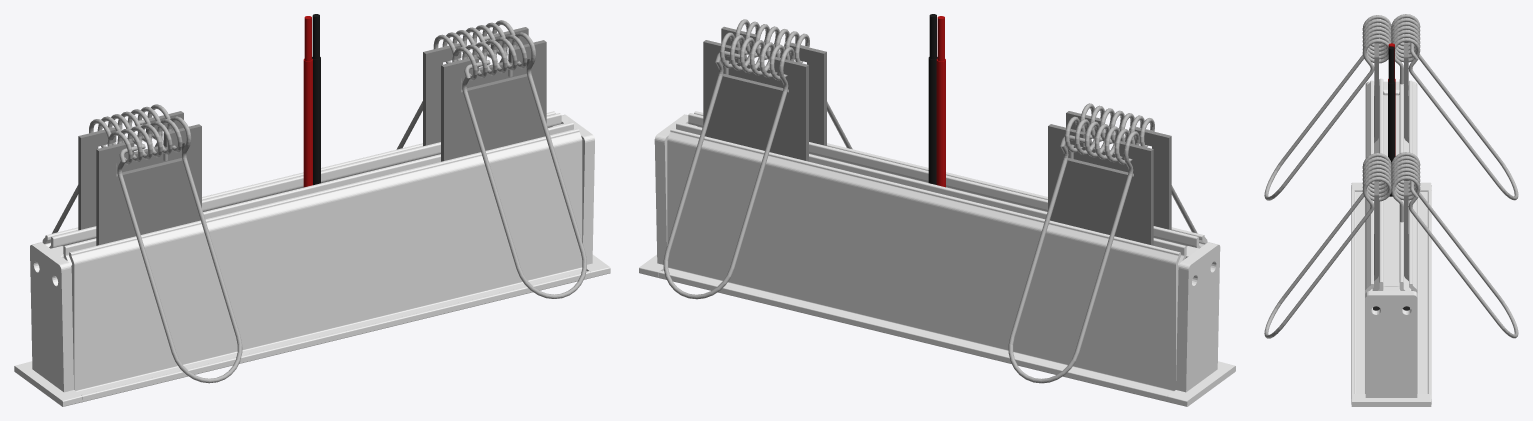
The model's file is Grid-microborda.glb.
The picture shows the model from 3 angles, left to right: view 1: azimuth 30°, elevation 25°; view 2: azimuth 150°, elevation 25°; view 3: azimuth 270°, elevation 25°; orthographic projection. The views are drawn at different scales.
Parts seen in each view (by area): view 1: 3DGeom-3, 3DGeom-1 (×4), 3DGeom-8 (×4), 3DGeom-7 (×2), 3DGeom-2 (×2); view 2: 3DGeom-3, 3DGeom-1 (×4), 3DGeom-8 (×4), 3DGeom-7 (×2), 3DGeom-2 (×2); view 3: 3DGeom-3, 3DGeom-8 (×4), 3DGeom-7 (×2), 3DGeom-1 (×4), 3DGeom-2.
Part boxes in pixels (bbox=[...]): 3DGeom-3: bbox=[42, 111, 590, 401]; 3DGeom-1 (×4): bbox=[78, 27, 546, 245]; 3DGeom-8 (×4): bbox=[52, 20, 586, 383]; 3DGeom-7 (×2): bbox=[14, 114, 610, 406]; 3DGeom-2 (×2): bbox=[303, 14, 320, 187]; 3DGeom-3: bbox=[659, 111, 1207, 401]; 3DGeom-1 (×4): bbox=[703, 26, 1171, 245]; 3DGeom-8 (×4): bbox=[663, 19, 1197, 383]; 3DGeom-7 (×2): bbox=[639, 114, 1235, 406]; 3DGeom-2 (×2): bbox=[928, 14, 945, 187]; 3DGeom-3: bbox=[1351, 78, 1431, 393]; 3DGeom-8 (×4): bbox=[1264, 14, 1518, 338]; 3DGeom-7 (×2): bbox=[1351, 81, 1431, 406]; 3DGeom-1 (×4): bbox=[1374, 18, 1408, 280]; 3DGeom-2: bbox=[1388, 46, 1395, 196].
Size of the model in its own units: 0.1359 by 0.0725 by 0.0665.
8 materials, 2 textured.
